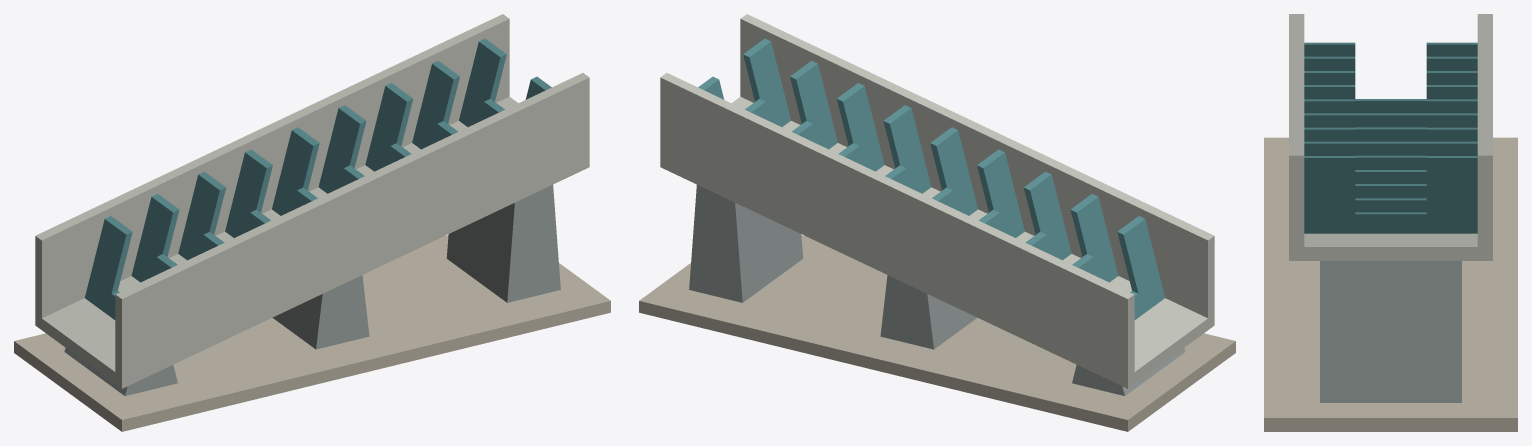
3 renders of one model, left to right at view 1: azimuth 30°, elevation 25°; view 2: azimuth 150°, elevation 25°; view 3: azimuth 270°, elevation 25°, orthographic. The views are drawn at different scales.
Visible parts, largest first — view 1: WholeContinuousInclinedThroughChannel, WholeDryGroundSlab, WholeTaperedFullWidthPier2, WholeTaperedFullWidthPier1, WholeUpstreamLeaningOpenUBaffle00, WholeUpstreamLeaningOpenUBaffle08, WholeUpstreamLeaningOpenUBaffle01, WholeUpstreamLeaningOpenUBaffle02, WholeUpstreamLeaningOpenUBaffle07, WholeUpstreamLeaningOpenUBaffle03, WholeUpstreamLeaningOpenUBaffle06, WholeUpstreamLeaningOpenUBaffle04 (+2 smaller); view 2: WholeContinuousInclinedThroughChannel, WholeDryGroundSlab, WholeTaperedFullWidthPier2, WholeTaperedFullWidthPier1, WholeUpstreamLeaningOpenUBaffle00, WholeUpstreamLeaningOpenUBaffle08, WholeUpstreamLeaningOpenUBaffle01, WholeUpstreamLeaningOpenUBaffle02, WholeUpstreamLeaningOpenUBaffle07, WholeUpstreamLeaningOpenUBaffle03, WholeUpstreamLeaningOpenUBaffle06, WholeUpstreamLeaningOpenUBaffle04 (+2 smaller); view 3: WholeDryGroundSlab, WholeTaperedFullWidthPier2, WholeContinuousInclinedThroughChannel, WholeUpstreamLeaningOpenUBaffle08, WholeUpstreamLeaningOpenUBaffle00, WholeUpstreamLeaningOpenUBaffle01, WholeUpstreamLeaningOpenUBaffle03, WholeUpstreamLeaningOpenUBaffle04, WholeUpstreamLeaningOpenUBaffle06, WholeUpstreamLeaningOpenUBaffle07, WholeUpstreamLeaningOpenUBaffle05, WholeUpstreamLeaningOpenUBaffle02.
Boxes of the visible parts, left/top/right/bottom form: WholeContinuousInclinedThroughChannel: left=35, top=14, right=589, bottom=388; WholeDryGroundSlab: left=14, top=235, right=610, bottom=431; WholeTaperedFullWidthPier2: left=446, top=185, right=560, bottom=302; WholeTaperedFullWidthPier1: left=272, top=275, right=369, bottom=349; WholeUpstreamLeaningOpenUBaffle00: left=85, top=216, right=177, bottom=319; WholeUpstreamLeaningOpenUBaffle08: left=459, top=38, right=551, bottom=126; WholeUpstreamLeaningOpenUBaffle01: left=131, top=194, right=224, bottom=282; WholeUpstreamLeaningOpenUBaffle02: left=178, top=171, right=270, bottom=260; WholeUpstreamLeaningOpenUBaffle07: left=412, top=60, right=504, bottom=149; WholeUpstreamLeaningOpenUBaffle03: left=225, top=149, right=317, bottom=237; WholeUpstreamLeaningOpenUBaffle06: left=365, top=83, right=457, bottom=171; WholeUpstreamLeaningOpenUBaffle04: left=272, top=127, right=364, bottom=215; WholeContinuousInclinedThroughChannel: left=660, top=14, right=1214, bottom=388; WholeDryGroundSlab: left=639, top=235, right=1235, bottom=431; WholeTaperedFullWidthPier2: left=689, top=185, right=803, bottom=302; WholeTaperedFullWidthPier1: left=880, top=275, right=977, bottom=349; WholeUpstreamLeaningOpenUBaffle00: left=1072, top=216, right=1164, bottom=319; WholeUpstreamLeaningOpenUBaffle08: left=698, top=38, right=790, bottom=126; WholeUpstreamLeaningOpenUBaffle01: left=1025, top=194, right=1118, bottom=282; WholeUpstreamLeaningOpenUBaffle02: left=979, top=171, right=1071, bottom=260; WholeUpstreamLeaningOpenUBaffle07: left=745, top=60, right=837, bottom=149; WholeUpstreamLeaningOpenUBaffle03: left=932, top=149, right=1024, bottom=237; WholeUpstreamLeaningOpenUBaffle06: left=792, top=83, right=884, bottom=171; WholeUpstreamLeaningOpenUBaffle04: left=885, top=127, right=977, bottom=215; WholeDryGroundSlab: left=1264, top=137, right=1517, bottom=431; WholeTaperedFullWidthPier2: left=1320, top=261, right=1461, bottom=402; WholeContinuousInclinedThroughChannel: left=1289, top=14, right=1492, bottom=260; WholeUpstreamLeaningOpenUBaffle08: left=1304, top=156, right=1477, bottom=233; WholeUpstreamLeaningOpenUBaffle00: left=1304, top=42, right=1477, bottom=113; WholeUpstreamLeaningOpenUBaffle01: left=1304, top=56, right=1477, bottom=127; WholeUpstreamLeaningOpenUBaffle03: left=1304, top=85, right=1477, bottom=155; WholeUpstreamLeaningOpenUBaffle04: left=1304, top=99, right=1477, bottom=169; WholeUpstreamLeaningOpenUBaffle06: left=1304, top=127, right=1477, bottom=198; WholeUpstreamLeaningOpenUBaffle07: left=1304, top=141, right=1477, bottom=212; WholeUpstreamLeaningOpenUBaffle05: left=1304, top=113, right=1477, bottom=183; WholeUpstreamLeaningOpenUBaffle02: left=1304, top=71, right=1477, bottom=141.
Size of the model in its own units: 6.9 by 3.1 by 2.64.
